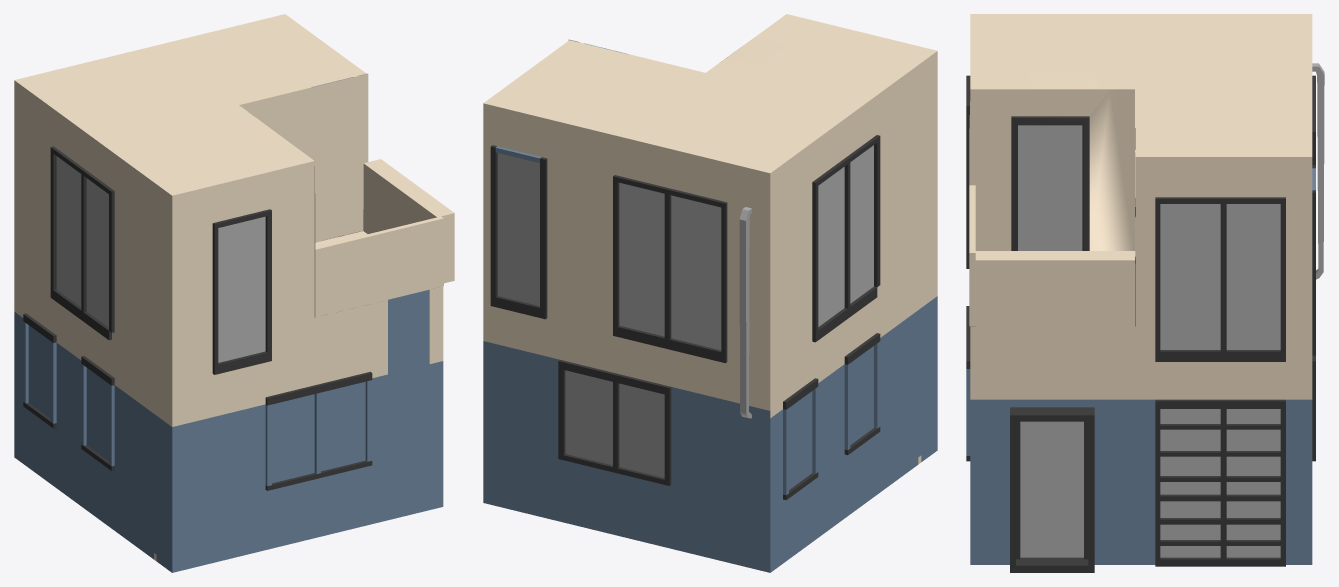
The model's file is building2_wanwan.fbx.
3 views of the same model, side by side, from view 1: azimuth 30°, elevation 25°; view 2: azimuth 150°, elevation 25°; view 3: azimuth 270°, elevation 25° (orthographic). The views are drawn at different scales.
Parts seen in each view (by area): view 1: building_2; view 2: building_2; view 3: building_2.
Part boxes in pixels (bbox=[...]): building_2: bbox=[14, 14, 454, 572]; building_2: bbox=[483, 14, 937, 572]; building_2: bbox=[966, 14, 1324, 572].
Bounding box in the file's own units: 12.25 × 15.28 × 12.15.
